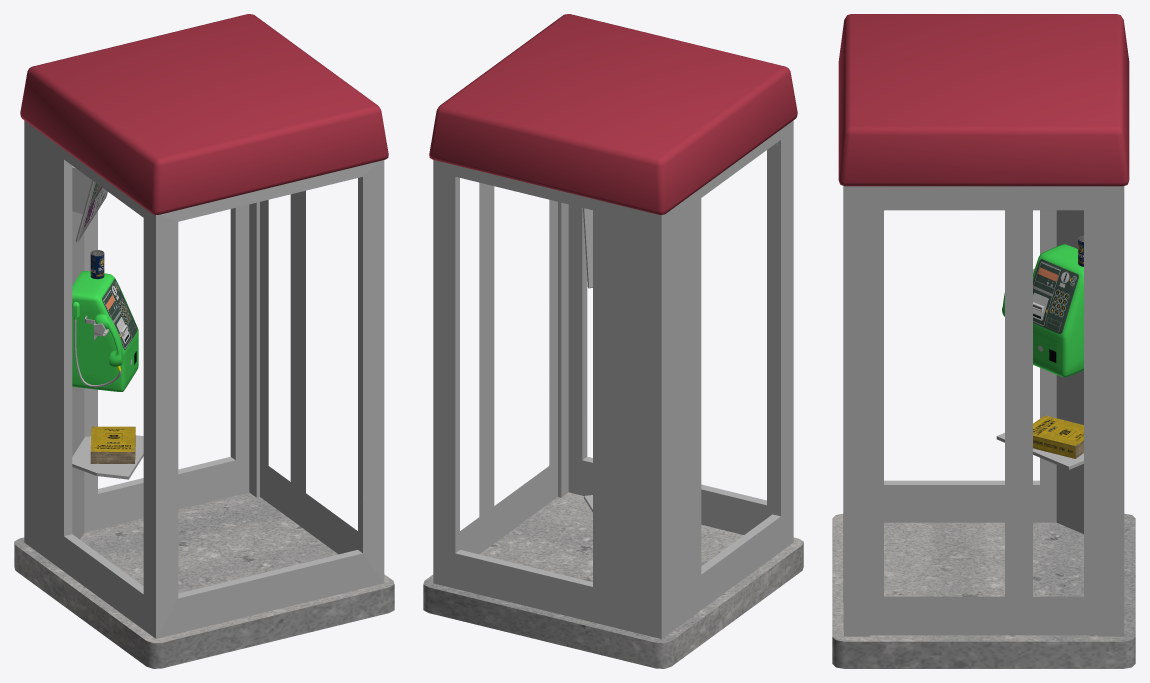
The model's file is Story06_구일고등학교.fbx.
3 renders of one model, left to right at view 1: azimuth 30°, elevation 25°; view 2: azimuth 150°, elevation 25°; view 3: azimuth 270°, elevation 25°, orthographic. The views are drawn at different scales.
Parts seen in each view (by area): view 1: Story06_구일고등학교; view 2: Story06_구일고등학교; view 3: Story06_구일고등학교.
Boxes of the visible parts, box(x1,y1,x2,y2) form: Story06_구일고등학교: box(14, 14, 394, 668); Story06_구일고등학교: box(423, 14, 803, 668); Story06_구일고등학교: box(832, 14, 1135, 668).
Size of the model in its own units: 4400 by 8559 by 4400.
4 materials, 4 textured.
